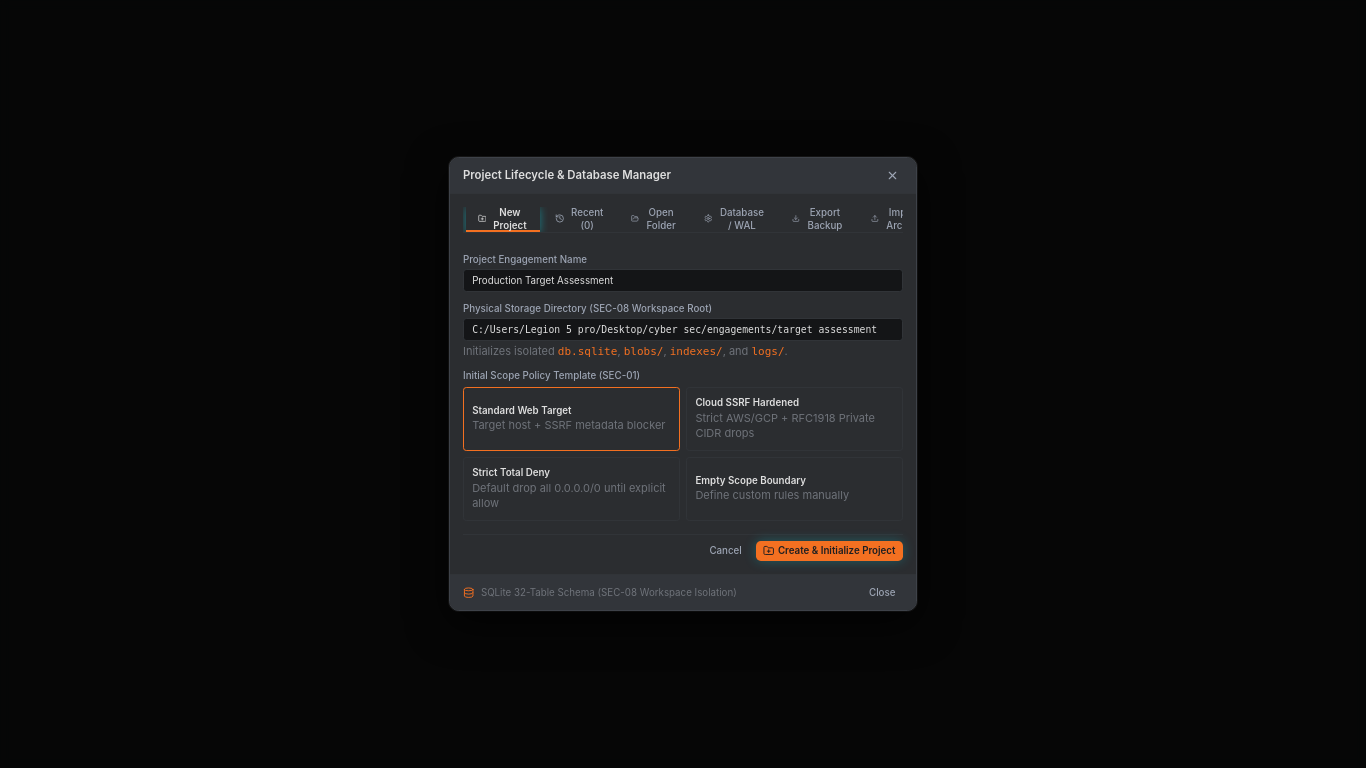
Scenario: ProjectModal Component › switches between modal tabs (Recent, Open, Database/WAL, Export, Import)
# Click Recent tab
Click the tab "Recent (0)" at (580, 220), box [543,207,616,232]
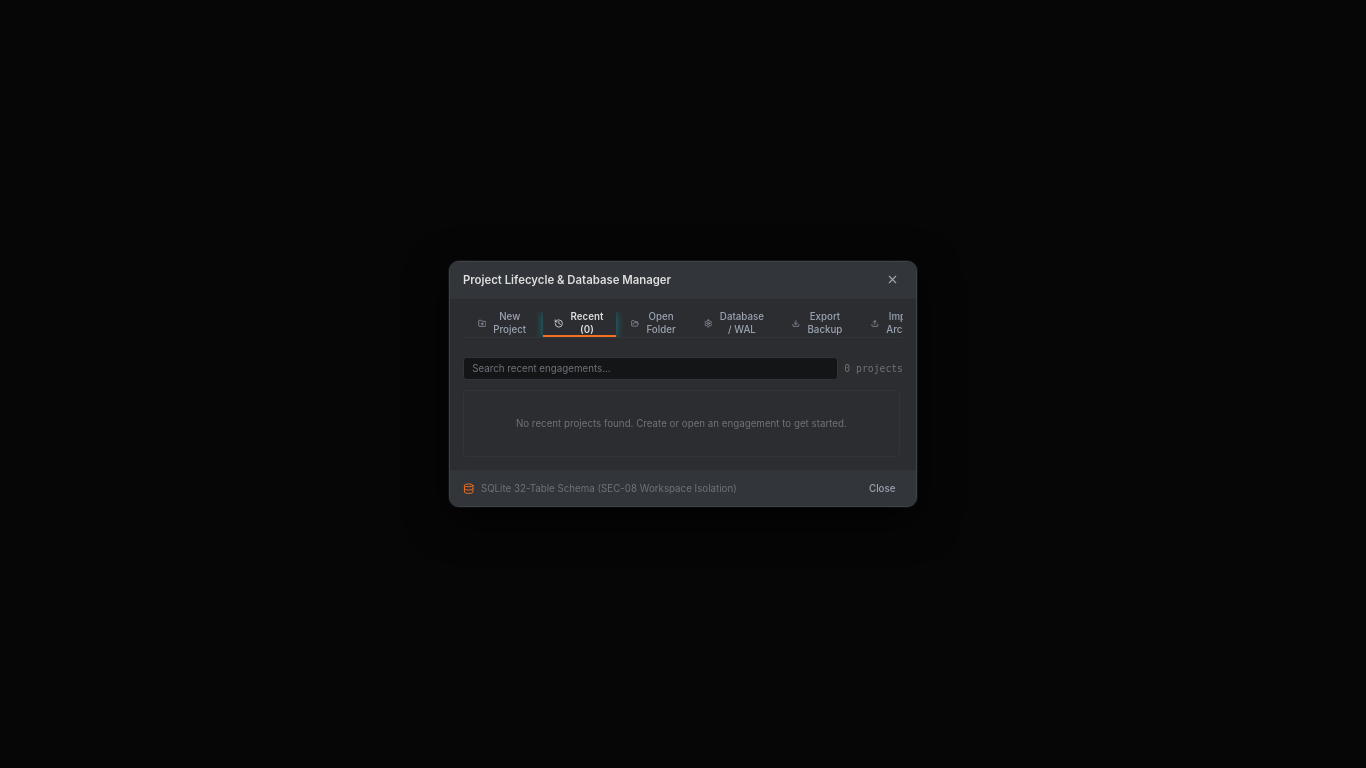
Expected: the field with placeholder "Search recent engagements..." is shown, [463,357,838,380]
# Click Open Folder tab
Click the tab "Open Folder" at (655, 324), box [620,312,690,336]
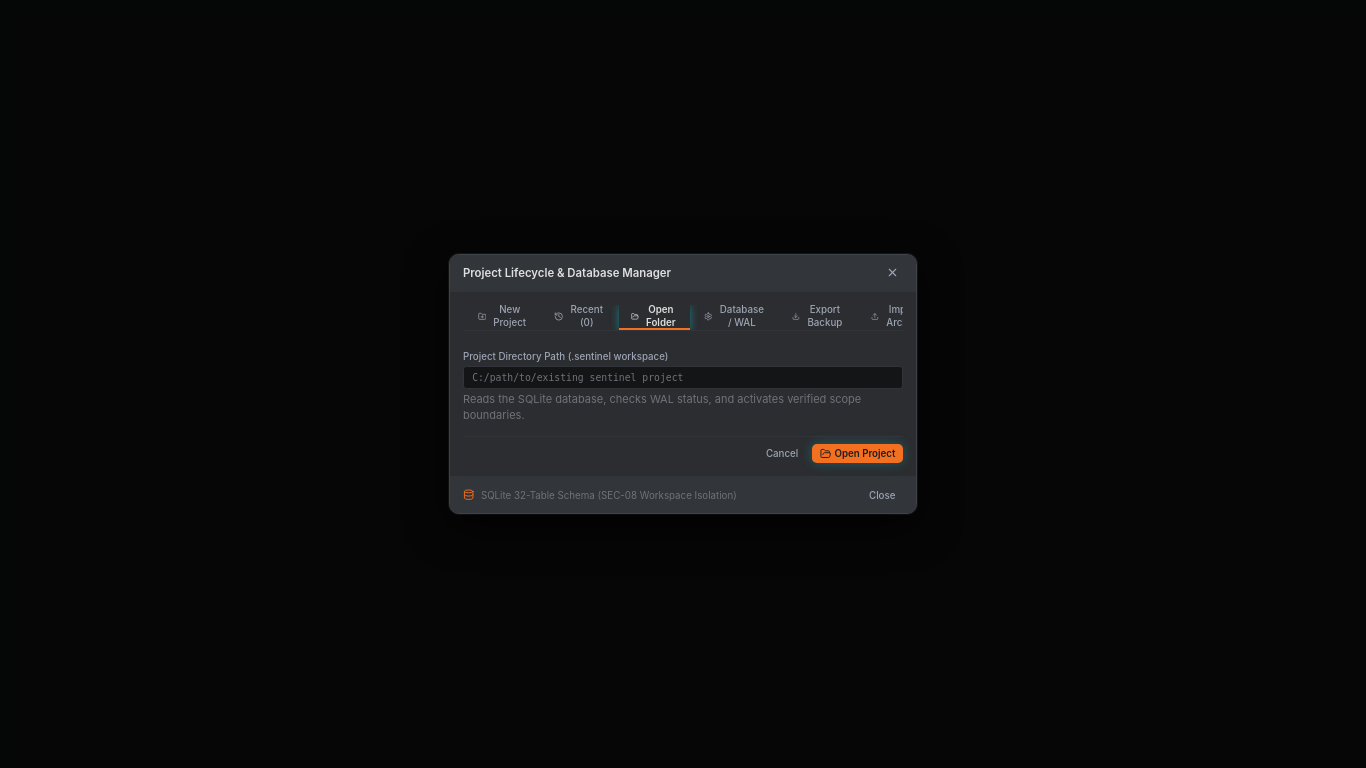
Expected: the text "Project Directory Path (.sentinel workspace)" is shown, [463,351,668,362]
# Click Database / WAL tab
Click the tab "Database / WAL" at (735, 317), box [693,305,778,330]
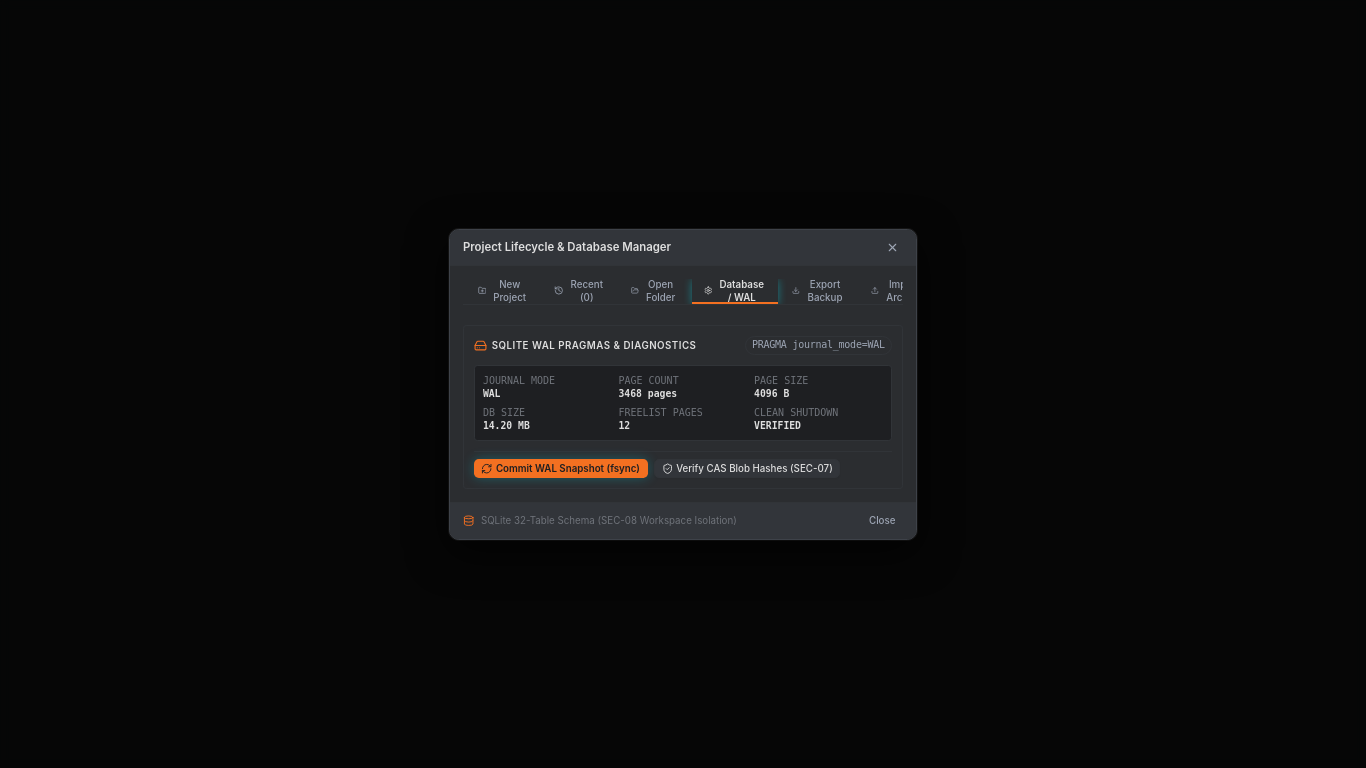
Expected: the text "SQLite WAL Pragmas & Diagnostics" is shown, [474,339,696,352]
Expected: the button "Commit WAL Snapshot (fsync)" is shown, [474,458,648,478]
# Click Export Backup tab
Click the tab "Export Backup" at (819, 292), box [781,279,856,304]
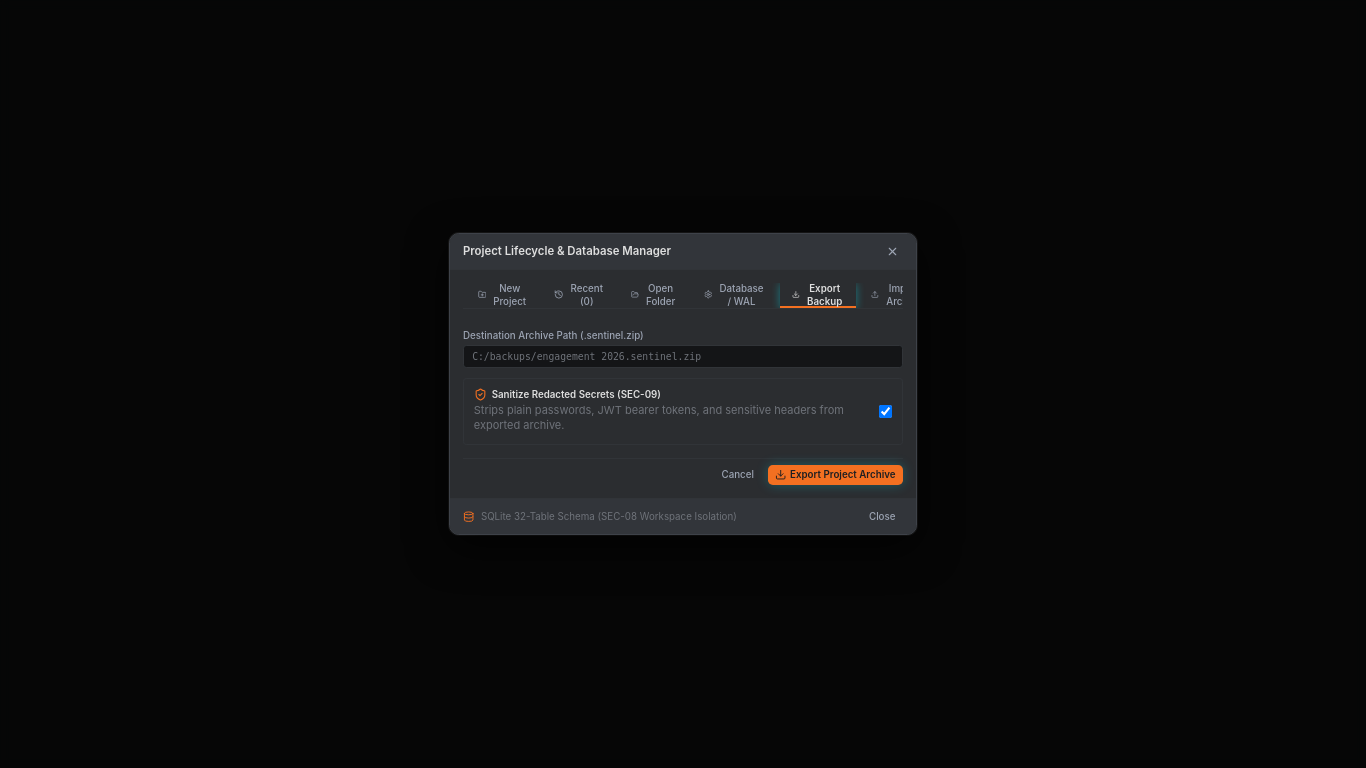
Expected: the text "Destination Archive Path (.sentinel.zip)" is shown, [463,330,644,341]
Expected: the text "Sanitize Redacted Secrets (SEC-09)" is shown, [474,388,661,401]
# Click Import Archive tab
Click the tab "Import Archive" at (898, 296), box [860,283,936,308]
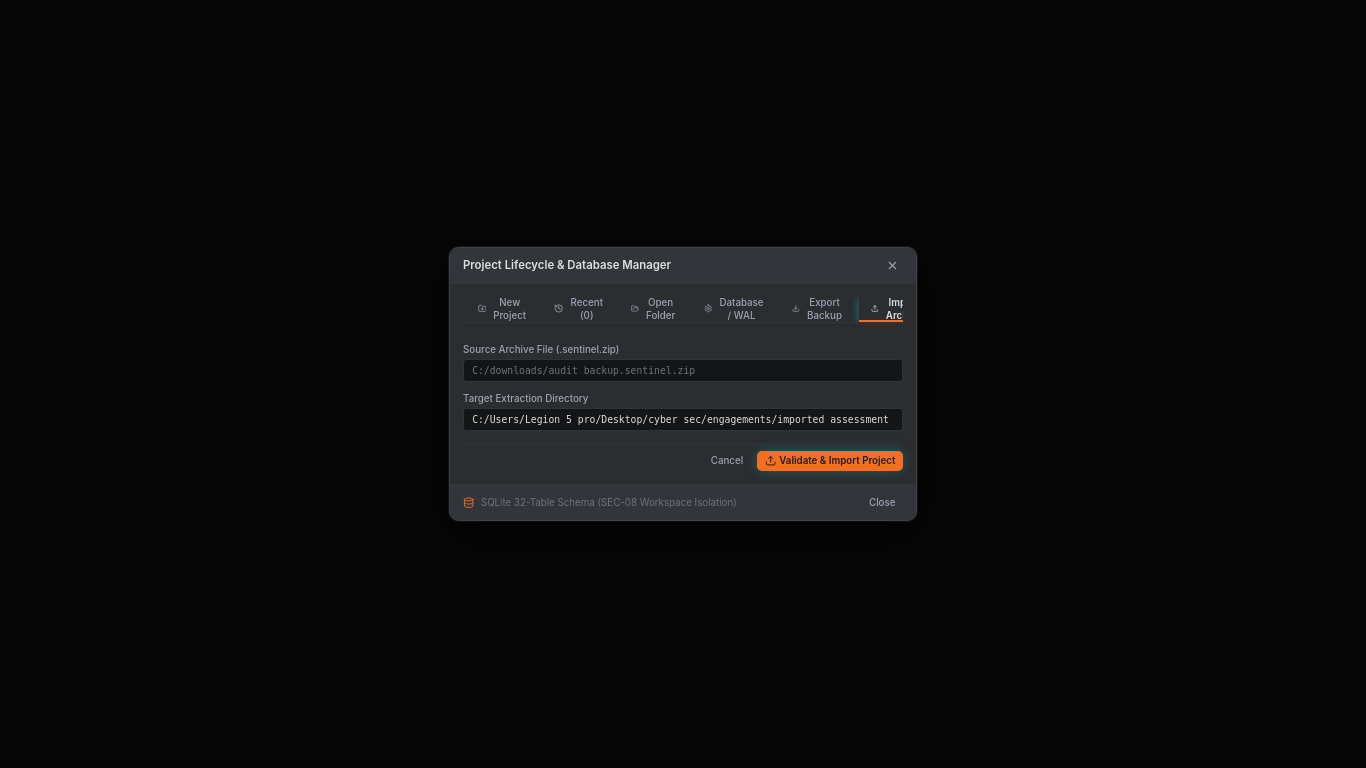
Expected: the text "Source Archive File (.sentinel.zip)" is shown, [463,344,619,355]
Expected: the button "Validate & Import Project" is shown, [757,451,903,471]
